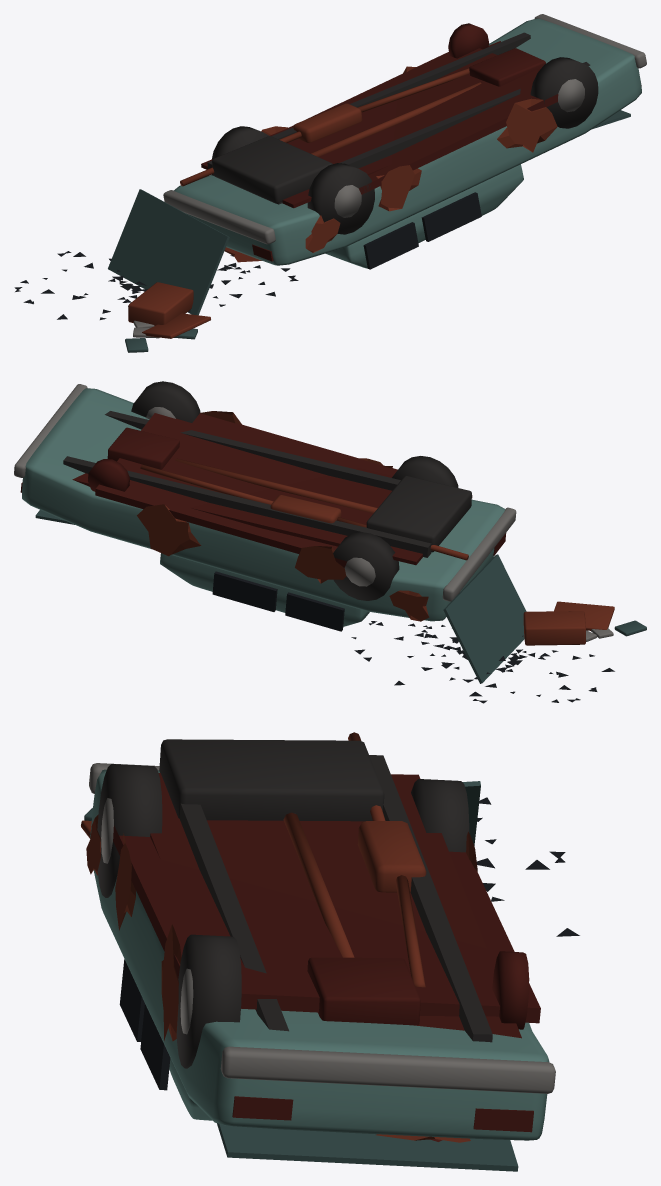
Rendered from rolled.glb.
3 views of the same model, one above another, from view 1: azimuth 30°, elevation 25°; view 2: azimuth 150°, elevation 25°; view 3: azimuth 270°, elevation 25° (orthographic). The views are drawn at different scales.
Parts seen in each view (by area): view 1: body_low, sill_rot, boot_lid, fuel_tank, floor_pan, cabin, tyre_-14_7, tyre_14_7, suitcase, rust_side_0_1, bumper_-1, rail_-1 (+16 smaller); view 2: body_low, sill_rot, boot_lid, floor_pan, fuel_tank, rail_-1, rail_1, tyre_-14_-7, cabin, suitcase, sump, rust_side_0_-1 (+15 smaller); view 3: body_low, sill_rot, floor_pan, fuel_tank, bumper_1, bonnet, sump, tyre_14_7, rail_-1, rail_1, tyre_-14_7, silencer (+14 smaller).
Boxes of the visible parts, box(x1,y1,x2,y2) form: body_low: box(174, 18, 641, 265); sill_rot: box(287, 48, 558, 194); boot_lid: box(108, 189, 229, 315); fuel_tank: box(212, 136, 332, 203); floor_pan: box(201, 41, 500, 208); cabin: box(325, 164, 523, 268); tyre_-14_7: box(307, 163, 374, 234); tyre_14_7: box(530, 57, 598, 128); suitcase: box(128, 282, 193, 325); rust_side_0_1: box(497, 98, 557, 152); bumper_-1: box(163, 190, 275, 244); rail_-1: box(207, 32, 530, 175); body_low: box(22, 388, 505, 621); sill_rot: box(95, 413, 397, 567); boot_lid: box(443, 554, 526, 683); floor_pan: box(72, 468, 472, 565); fuel_tank: box(366, 476, 471, 552); rail_-1: box(63, 456, 431, 557); rail_1: box(105, 411, 400, 490); tyre_-14_-7: box(333, 532, 399, 600); cabin: box(160, 553, 369, 626); suitcase: box(523, 611, 585, 645); sump: box(107, 427, 179, 469); rust_side_0_-1: box(137, 504, 201, 556); body_low: box(90, 769, 549, 1140); sill_rot: box(113, 825, 540, 1023); floor_pan: box(150, 773, 521, 1038); fuel_tank: box(159, 739, 384, 821); bumper_1: box(220, 1046, 555, 1093); bonnet: box(217, 1123, 518, 1171); sump: box(307, 957, 420, 1025); tyre_14_7: box(176, 934, 241, 1068); rail_-1: box(369, 755, 492, 1042); rail_1: box(179, 803, 288, 1031); tyre_-14_7: box(97, 764, 162, 897); silencer: box(357, 821, 426, 892).
Bounding box in the file's own units: 6.62 × 1.78 × 2.53.
